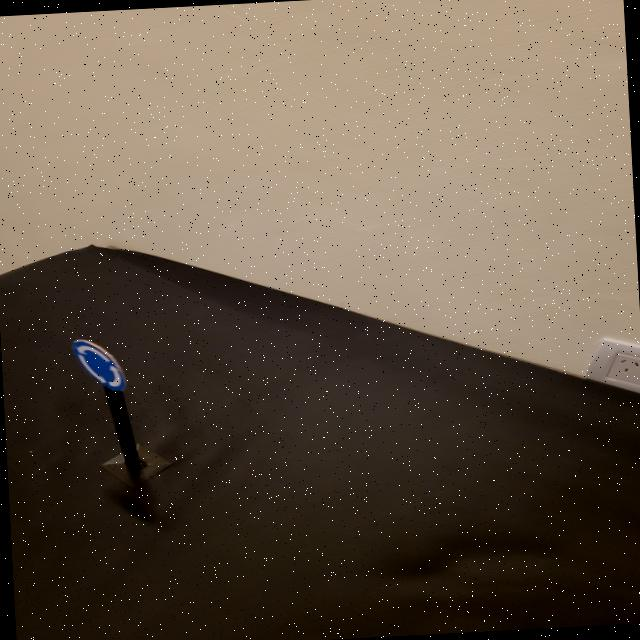round_about: (72, 337, 127, 394)
